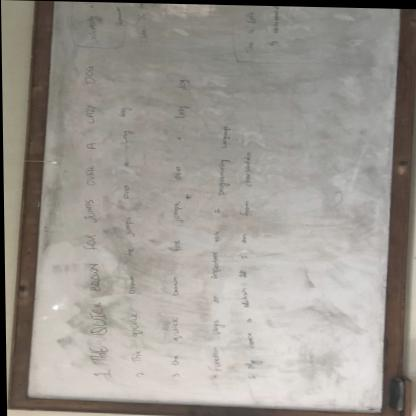Handwritten text: (155, 63, 198, 371), (72, 54, 109, 366), (111, 101, 146, 363), (199, 116, 234, 375), (234, 138, 262, 374), (238, 6, 260, 55), (265, 9, 288, 47), (77, 14, 106, 44)
